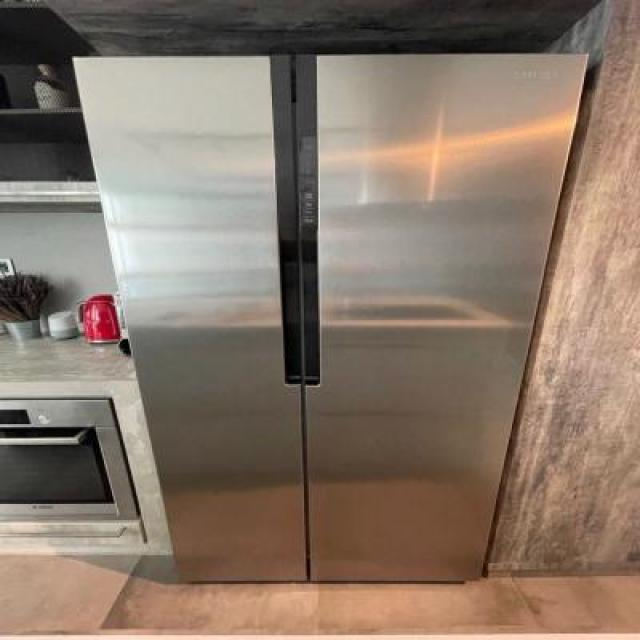refrigerator: (73, 56, 592, 584)
